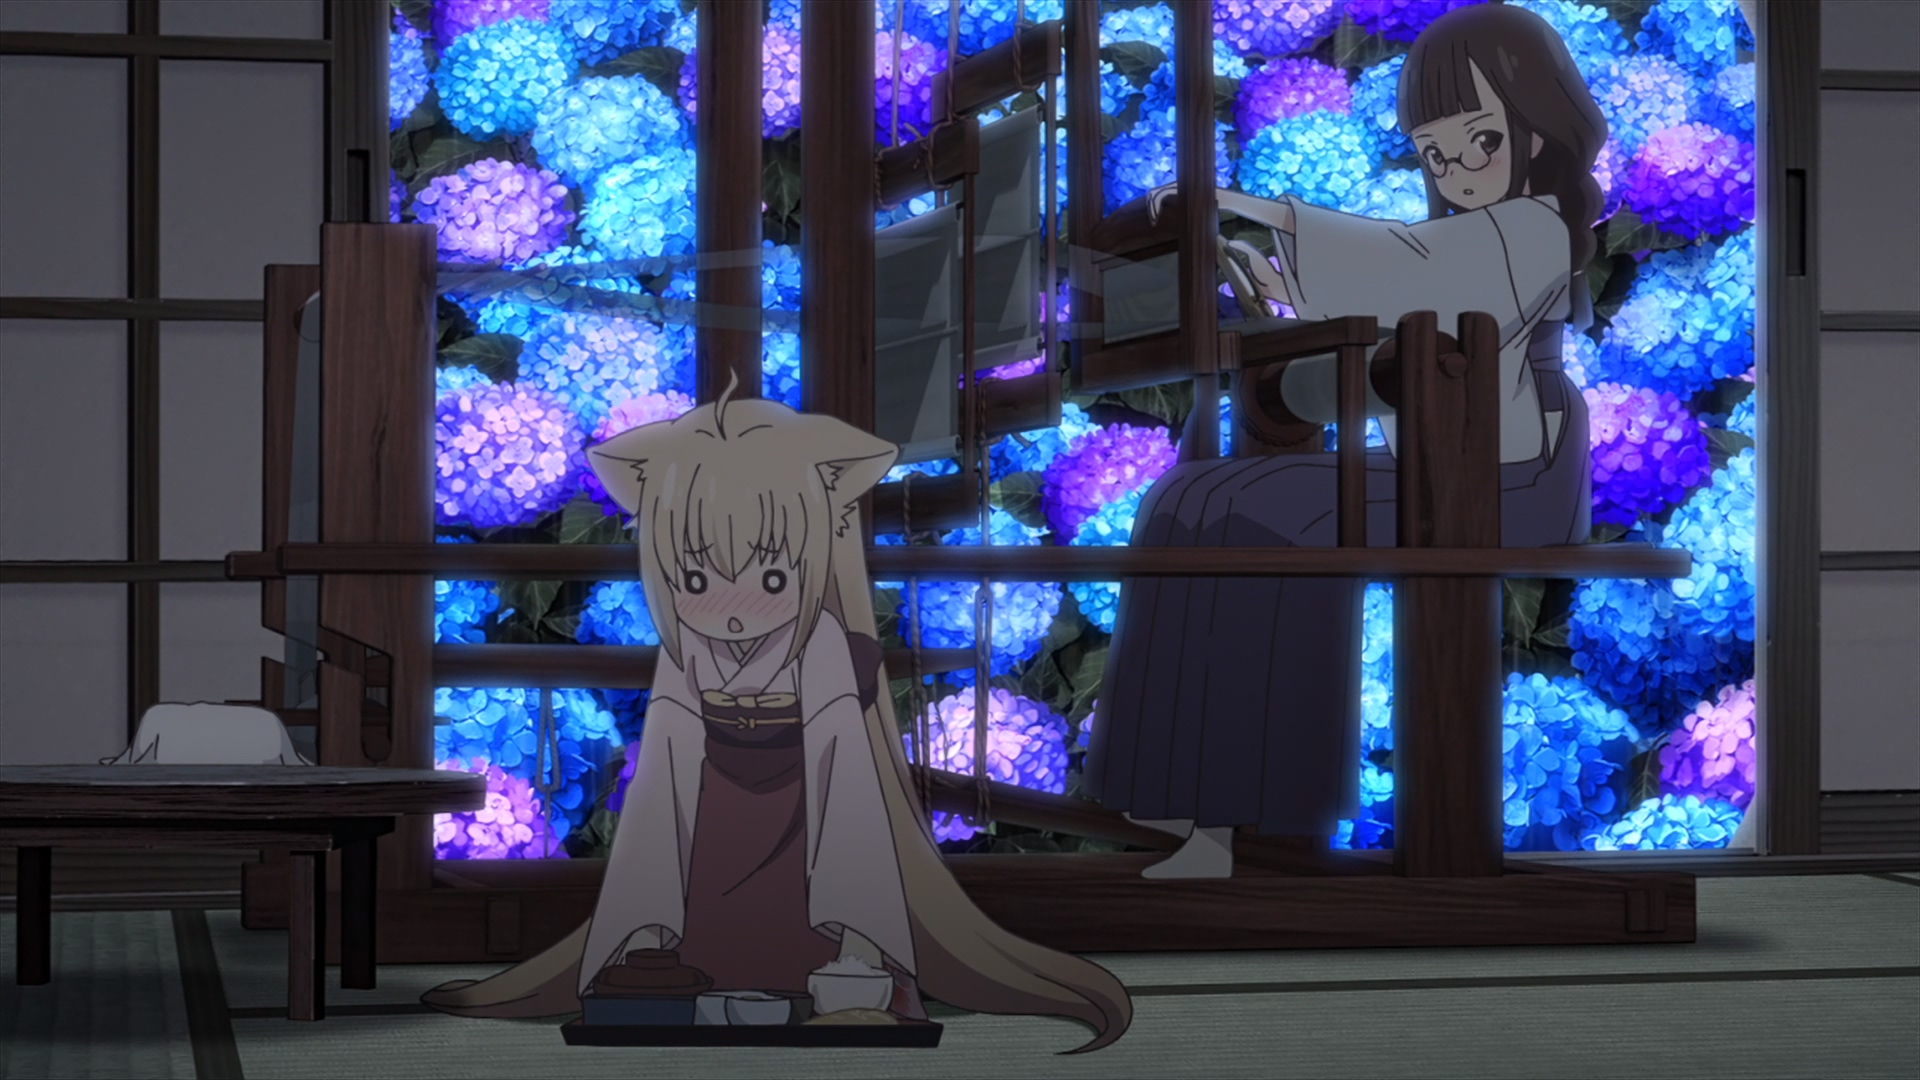其他: (1084, 4, 1606, 880)
柚: (430, 365, 1133, 1056)
